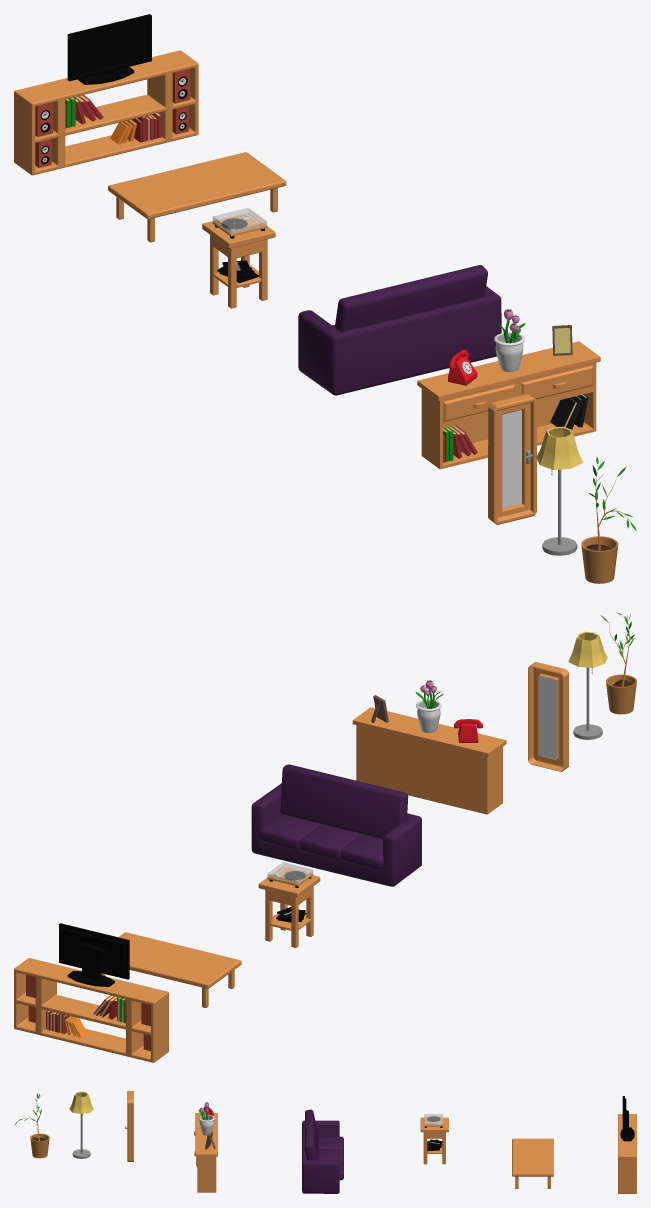
The model's file is CosasSalon.fbx.
3 views of the same model, one above another, from view 1: azimuth 30°, elevation 25°; view 2: azimuth 150°, elevation 25°; view 3: azimuth 270°, elevation 25° (orthographic). The views are drawn at different scales.
Parts seen in each view (by area): view 1: SofaSimple, MuebleSimple, MuebleTVSimple, MesaBajaSalon, VentanaSimple1x3, Televisor, MuebleTocadiscos, LamparaDePieSimple, MacetaSimple, Jarron.001, Libros.005, Libros.008 (+4 smaller); view 2: SofaSimple, MuebleSimple, MuebleTVSimple, VentanaSimple1x3, MesaBajaSalon, Televisor, MuebleTocadiscos, LamparaDePieSimple, MacetaSimple, Jarron.001, Libros.005, TapaTocadiscos.001; view 3: SofaSimple, MesaBajaSalon, MuebleSimple, MuebleTVSimple, MuebleTocadiscos, LamparaDePieSimple, VentanaSimple1x3, MacetaSimple, Televisor, Jarron.001, TapaTocadiscos.001, Tocadiscos.001.
Part boxes in pixels (x1=…): SofaSimple: x1=298, y1=265, x2=501, y2=395; MuebleSimple: x1=417, y1=341, x2=600, y2=469; MuebleTVSimple: x1=14, y1=50, x2=198, y2=175; MesaBajaSalon: x1=108, y1=152, x2=286, y2=242; VentanaSimple1x3: x1=488, y1=394, x2=536, y2=524; Televisor: x1=67, y1=14, x2=151, y2=84; MuebleTocadiscos: x1=202, y1=221, x2=275, y2=308; LamparaDePieSimple: x1=536, y1=426, x2=583, y2=555; MacetaSimple: x1=581, y1=536, x2=618, y2=583; Jarron.001: x1=494, y1=309, x2=525, y2=371; Libros.005: x1=110, y1=113, x2=161, y2=144; Libros.008: x1=550, y1=394, x2=588, y2=429; SofaSimple: x1=251, y1=764, x2=421, y2=886; MuebleSimple: x1=352, y1=707, x2=506, y2=814; MuebleTVSimple: x1=14, y1=958, x2=168, y2=1062; VentanaSimple1x3: x1=528, y1=662, x2=568, y2=771; MesaBajaSalon: x1=101, y1=932, x2=241, y2=1007; Televisor: x1=59, y1=923, x2=129, y2=986; MuebleTocadiscos: x1=258, y1=875, x2=320, y2=947; LamparaDePieSimple: x1=568, y1=631, x2=607, y2=739; MacetaSimple: x1=606, y1=674, x2=636, y2=714; Jarron.001: x1=415, y1=680, x2=443, y2=732; Libros.005: x1=46, y1=1010, x2=87, y2=1037; TapaTocadiscos.001: x1=267, y1=862, x2=313, y2=884; SofaSimple: x1=302, y1=1109, x2=343, y2=1193; MesaBajaSalon: x1=512, y1=1138, x2=553, y2=1188; MuebleSimple: x1=194, y1=1113, x2=217, y2=1192; MuebleTVSimple: x1=618, y1=1114, x2=636, y2=1193; MuebleTocadiscos: x1=420, y1=1117, x2=448, y2=1164; LamparaDePieSimple: x1=69, y1=1091, x2=93, y2=1158; VentanaSimple1x3: x1=127, y1=1091, x2=133, y2=1161; MacetaSimple: x1=30, y1=1133, x2=49, y2=1158; Televisor: x1=620, y1=1096, x2=634, y2=1141; Jarron.001: x1=198, y1=1102, x2=214, y2=1135; TapaTocadiscos.001: x1=424, y1=1114, x2=443, y2=1125; Tocadiscos.001: x1=424, y1=1116, x2=443, y2=1127.
Size of the model in its own units: 509 by 379 by 2967.
26 materials, 1 textured.
